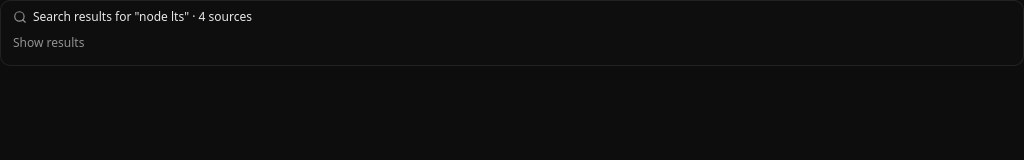
it: custom message cards › web-search-results: title from details, results behind a toggle
Expected: the text "Search results for \"node lts\" · 4 sources" is shown, [33, 9, 252, 25]
Click the button "Show results" at coordinates (49, 42), box [5, 29, 1019, 57]
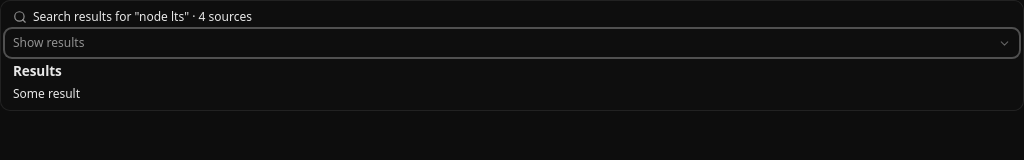
Expected: the text "Some result" is shown, [13, 85, 80, 102]
